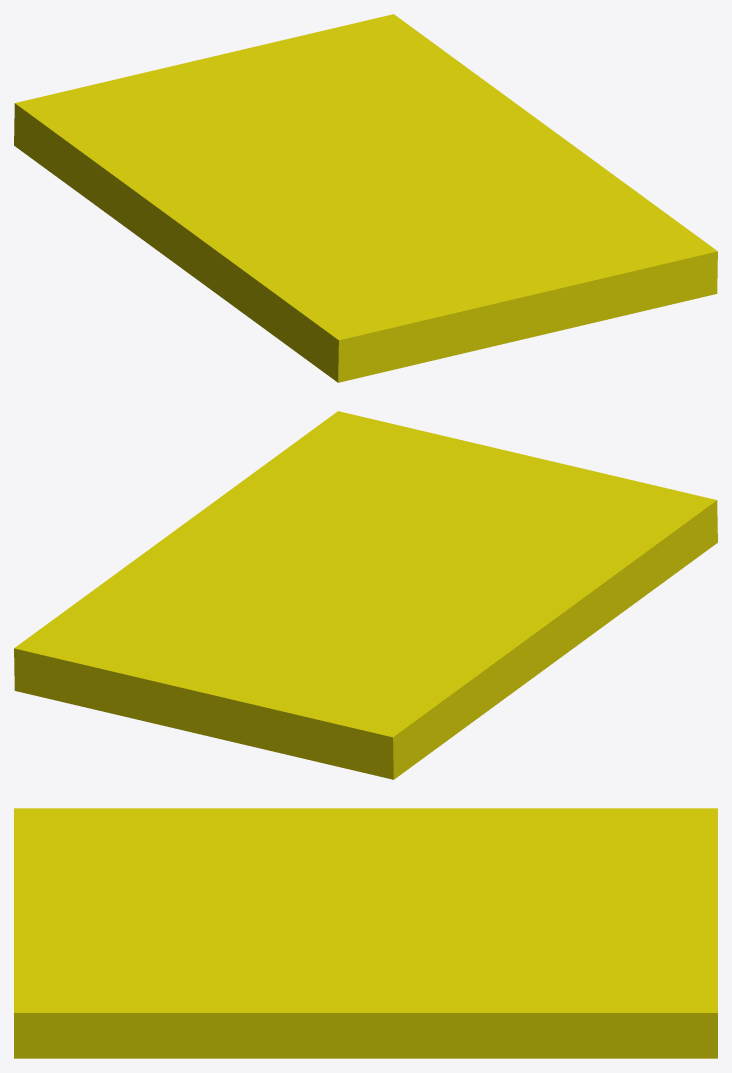
The model's file is YellowPressurePlate.glb.
3 views of the same model, one above another, from view 1: azimuth 30°, elevation 25°; view 2: azimuth 150°, elevation 25°; view 3: azimuth 270°, elevation 25° (orthographic). The views are drawn at different scales.
Parts seen in each view (by area): view 1: YellowButton; view 2: YellowButton; view 3: YellowButton.
Boxes of the visible parts, bbox=[...] form: YellowButton: bbox=[14, 14, 717, 382]; YellowButton: bbox=[14, 411, 717, 779]; YellowButton: bbox=[14, 808, 717, 1058].
Size of the model in its own units: 1.65 by 0.1897 by 2.44.
